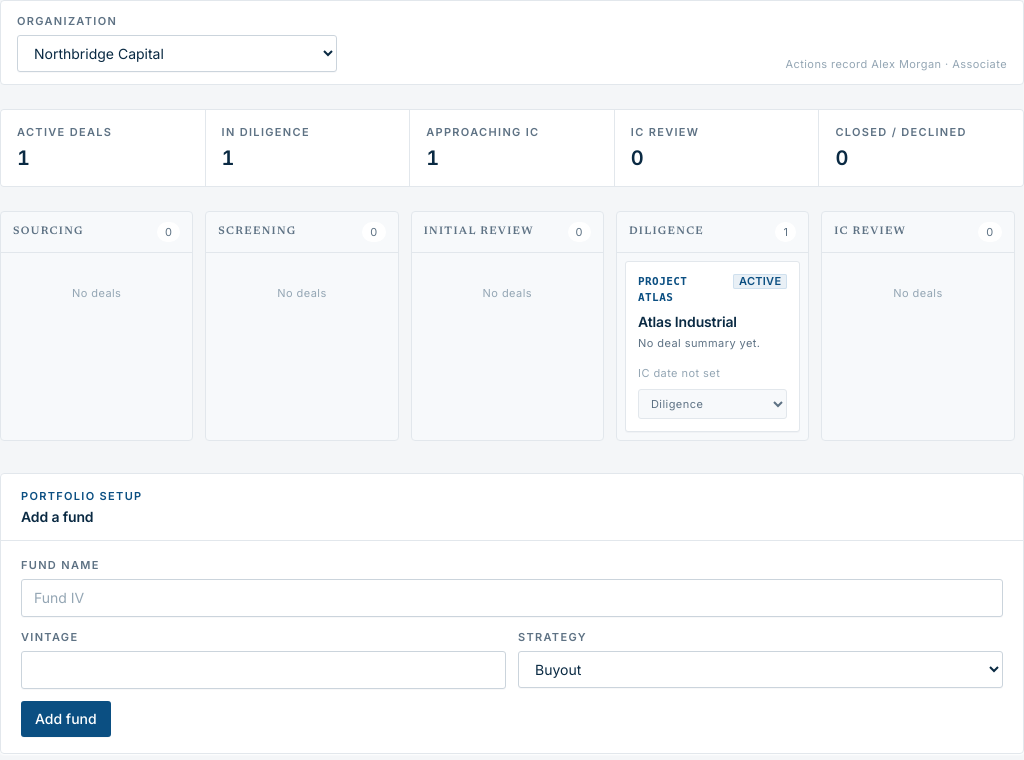
Test case: PipelineBoard stage transitions › surfaces a stage-gate 409 instead of silently snapping back (audit H6)
This screenshot has width=1024, height=760.
Expected: the heading "Atlas Industrial" is shown, [638,313,737,330]
Select "Ic Review" in the dropdown named "Change stage" at (713, 404), box [638,389,787,419]
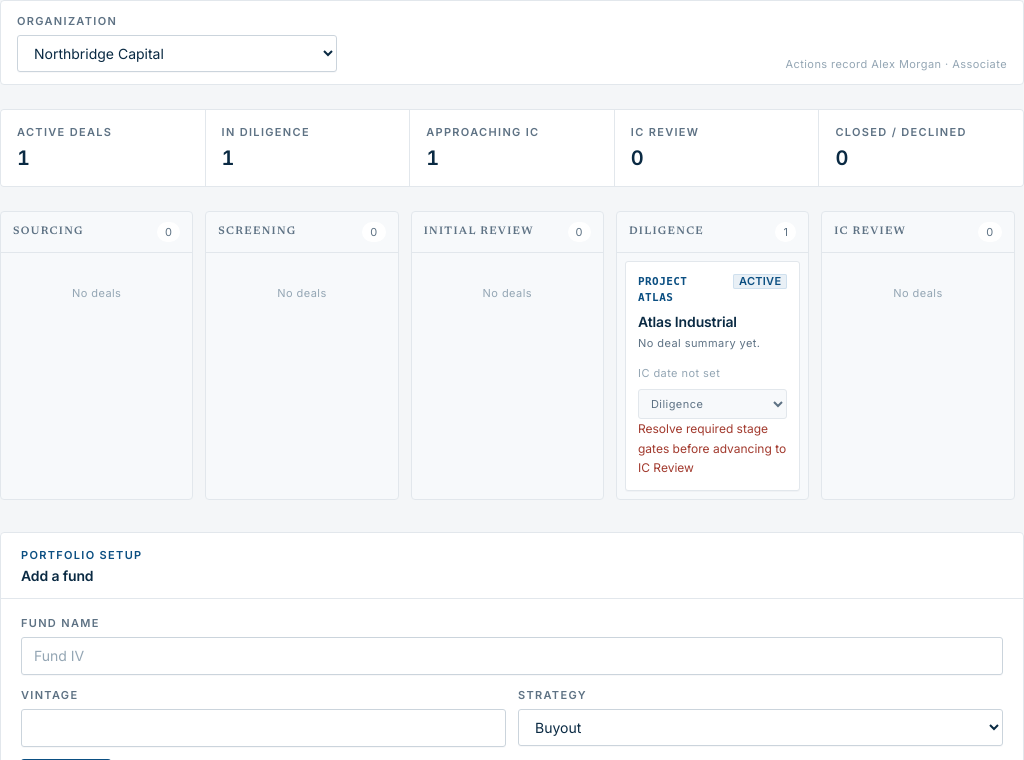
Result: the text "Resolve required stage gates before advancing to IC Review" is shown at [638,419,787,478]
